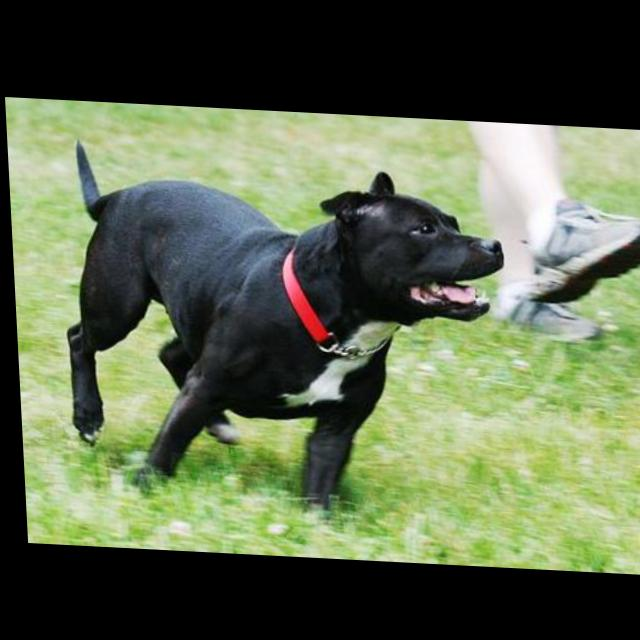staffford: (55, 138, 513, 526)
